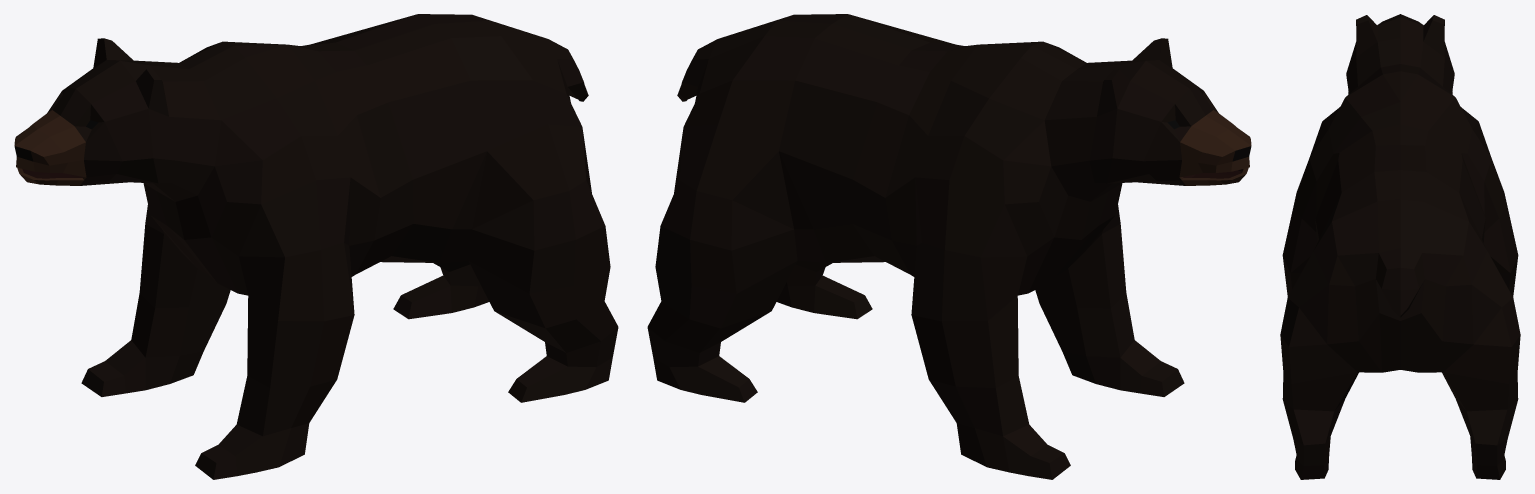
File: bear.obj
3 renders of one model, left to right at view 1: azimuth 30°, elevation 25°; view 2: azimuth 150°, elevation 25°; view 3: azimuth 270°, elevation 25°, orthographic. The views are drawn at different scales.
Parts seen in each view (by area): view 1: Cube_Cube.001; view 2: Cube_Cube.001; view 3: Cube_Cube.001.
Part boxes in pixels (x1,y1,x2,y2): Cube_Cube.001: (14, 14, 618, 479); Cube_Cube.001: (647, 14, 1251, 479); Cube_Cube.001: (1280, 14, 1520, 479).
Bounding box in the file's own units: 6.26 × 3.99 × 2.87.
